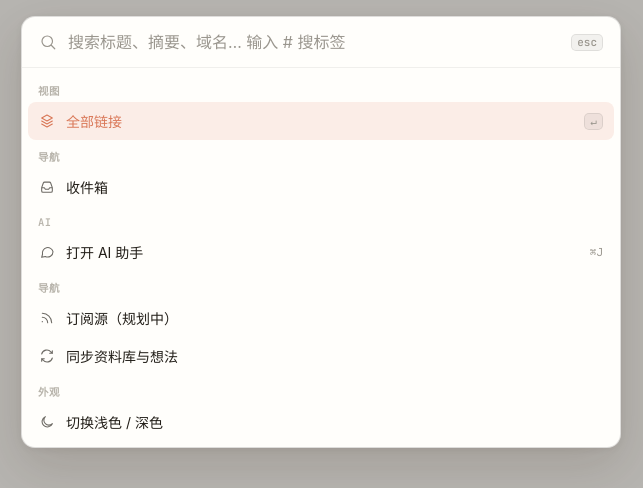
Test: CommandPalette › # 前缀只搜标签
Type "#ll" into the field with placeholder "搜索标题、摘要、域名… 输入 # 搜标签" at (314, 42), box [68,32,560,52]
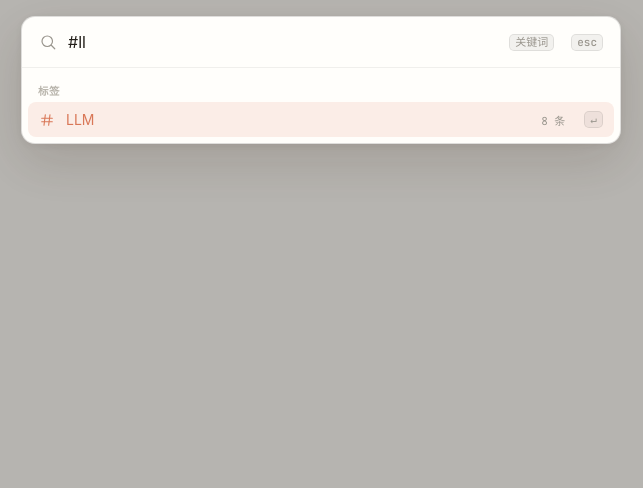
Result: the text "LLM" is shown at [66,111,94,128]
Result: the text "打开 AI 助手" is gone
